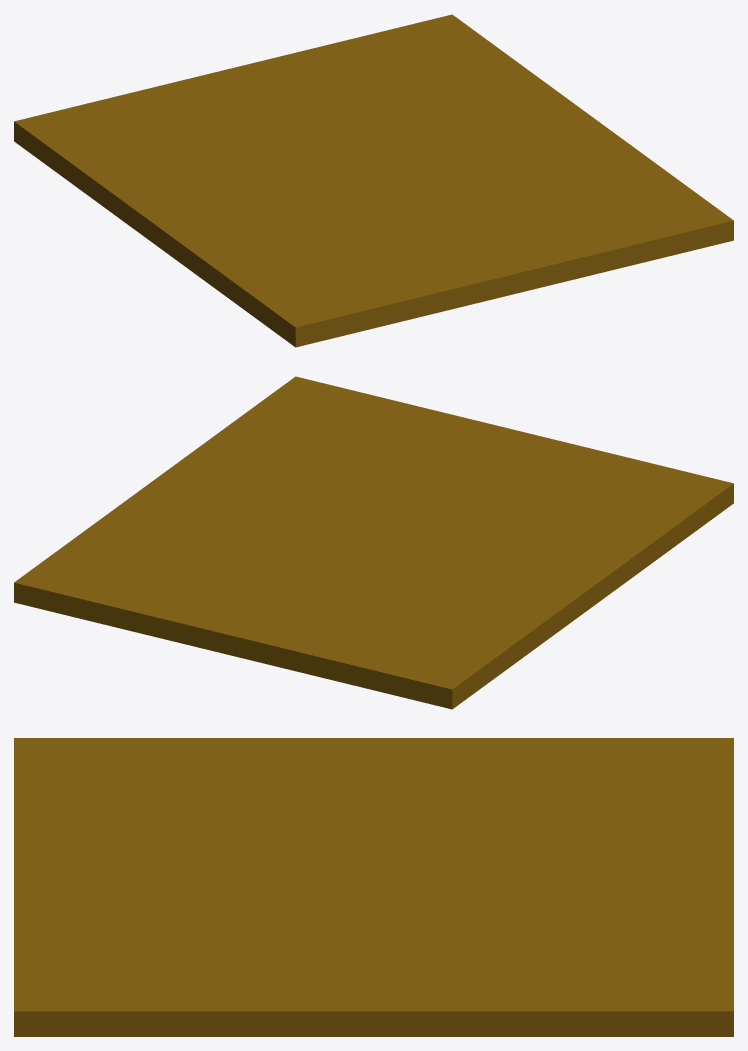
The model's file is Environment_Attachment_Balcony_C_Shattered.fbx.
3 views of the same model, one above another, from view 1: azimuth 30°, elevation 25°; view 2: azimuth 150°, elevation 25°; view 3: azimuth 270°, elevation 25° (orthographic). The views are drawn at different scales.
Parts seen in each view (by area): view 1: Environment_Attachment_Balcony_C8, Environment_Attachment_Balcony_C7, Environment_Attachment_Balcony_C5, Environment_Attachment_Balcony_C4, Environment_Attachment_Balcony_C11, Environment_Attachment_Balcony_C6, Environment_Attachment_Balcony_C10, Environment_Attachment_Balcony_C9; view 2: Environment_Attachment_Balcony_C8, Environment_Attachment_Balcony_C7, Environment_Attachment_Balcony_C5, Environment_Attachment_Balcony_C4, Environment_Attachment_Balcony_C11, Environment_Attachment_Balcony_C6, Environment_Attachment_Balcony_C10, Environment_Attachment_Balcony_C9; view 3: Environment_Attachment_Balcony_C4, Environment_Attachment_Balcony_C7, Environment_Attachment_Balcony_C8, Environment_Attachment_Balcony_C5, Environment_Attachment_Balcony_C10, Environment_Attachment_Balcony_C11, Environment_Attachment_Balcony_C9, Environment_Attachment_Balcony_C6.
Part boxes in pixels (<box>): Environment_Attachment_Balcony_C8: <box>242,207,684,347</box>; Environment_Attachment_Balcony_C7: <box>272,124,545,271</box>; Environment_Attachment_Balcony_C5: <box>134,134,318,308</box>; Environment_Attachment_Balcony_C4: <box>461,92,733,252</box>; Environment_Attachment_Balcony_C11: <box>274,43,472,153</box>; Environment_Attachment_Balcony_C6: <box>14,100,178,229</box>; Environment_Attachment_Balcony_C10: <box>336,14,558,110</box>; Environment_Attachment_Balcony_C9: <box>99,58,279,144</box>; Environment_Attachment_Balcony_C8: <box>344,388,733,541</box>; Environment_Attachment_Balcony_C7: <box>235,452,630,561</box>; Environment_Attachment_Balcony_C5: <box>365,520,680,622</box>; Environment_Attachment_Balcony_C4: <box>121,376,363,526</box>; Environment_Attachment_Balcony_C11: <box>130,524,367,645</box>; Environment_Attachment_Balcony_C6: <box>367,601,573,709</box>; Environment_Attachment_Balcony_C10: <box>14,504,199,630</box>; Environment_Attachment_Balcony_C9: <box>191,580,395,688</box>; Environment_Attachment_Balcony_C4: <box>14,931,468,1036</box>; Environment_Attachment_Balcony_C7: <box>168,762,454,944</box>; Environment_Attachment_Balcony_C8: <box>14,738,175,980</box>; Environment_Attachment_Balcony_C5: <box>150,738,595,860</box>; Environment_Attachment_Balcony_C10: <box>461,938,733,1036</box>; Environment_Attachment_Balcony_C11: <box>440,847,733,959</box>; Environment_Attachment_Balcony_C9: <box>502,791,733,899</box>; Environment_Attachment_Balcony_C6: <box>426,738,733,806</box>.
Size of the model in its own units: 0.8495 by 0.037 by 0.9453.
